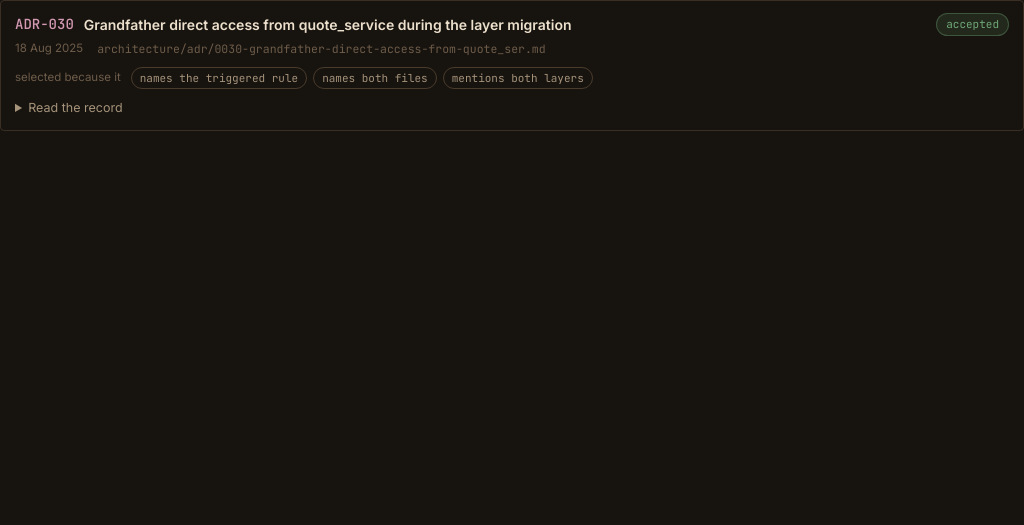
it: AdrList › reveals the full record text on demand
Step 1. Click the heading "Read the record" → (75, 108), box [28, 100, 123, 115]
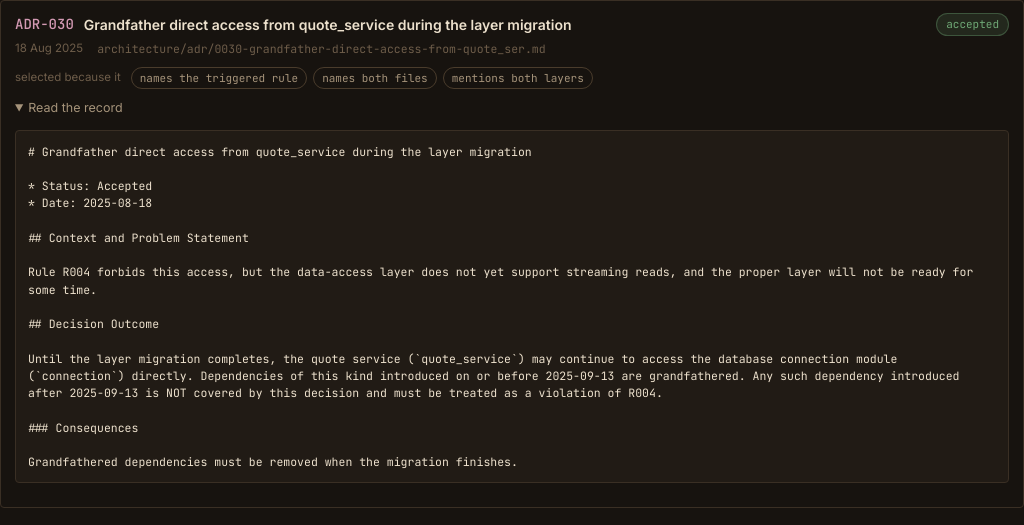
Expected: the text "grandfathered" is shown, [28, 144, 980, 469]
